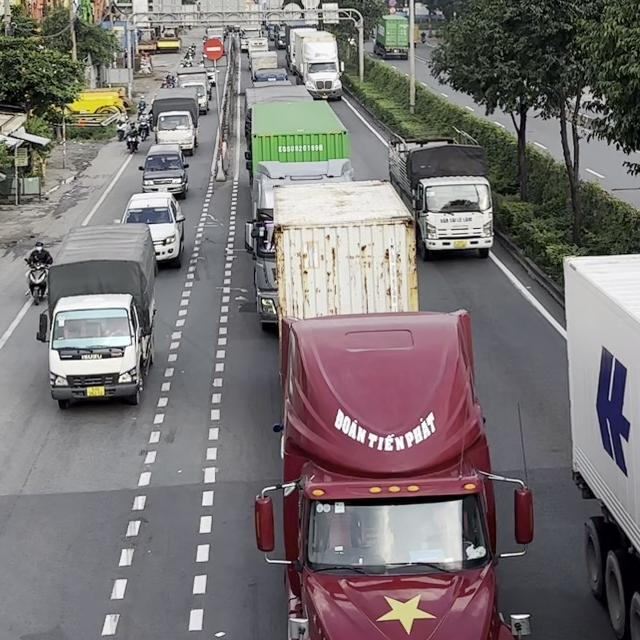car: (119, 191, 185, 267), (137, 143, 189, 199)
motorcycle: (23, 256, 50, 305), (125, 130, 139, 153), (138, 120, 150, 142), (117, 120, 125, 141)
truck: (254, 178, 534, 639), (562, 251, 639, 639), (244, 99, 353, 328), (35, 222, 157, 409), (387, 126, 494, 261), (285, 27, 344, 100), (152, 88, 199, 156), (177, 67, 209, 114)
